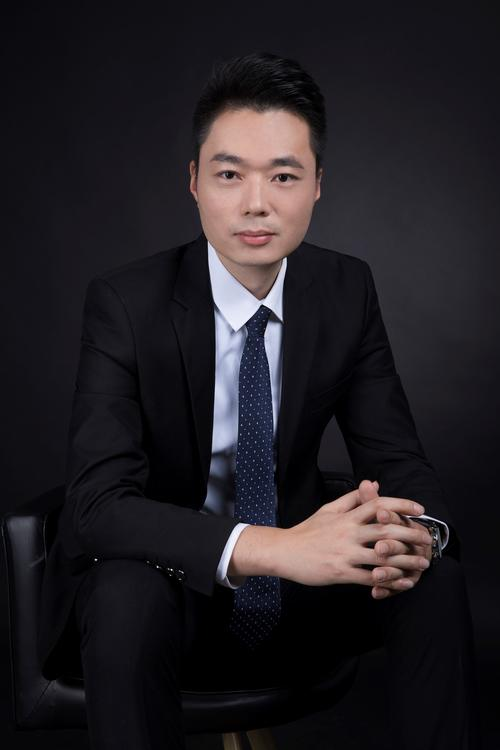nomask: (180, 86, 331, 257)
